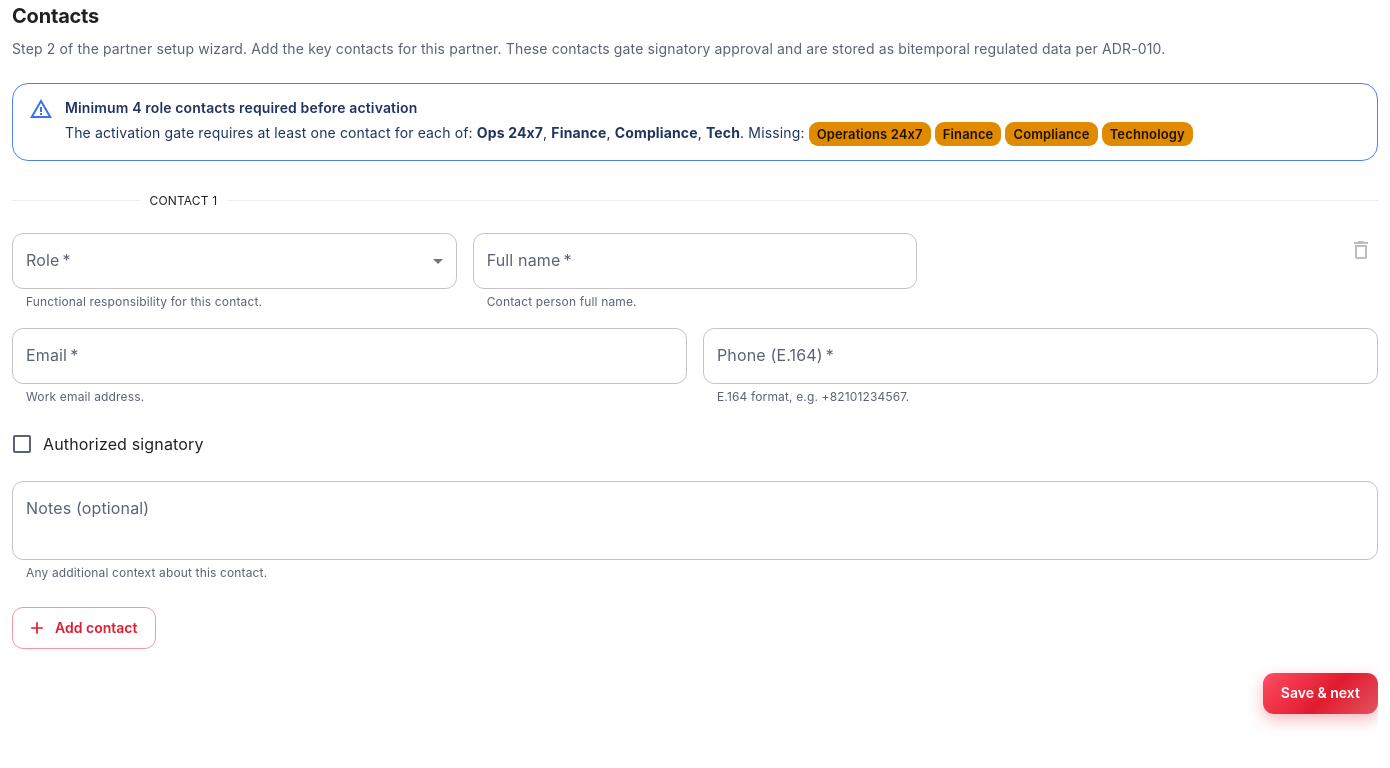
Scenario: ContactsForm › flags required fields when the form is submitted empty
Click the button "Save & next".
click(1320, 693)  # box [1263,673,1378,714]
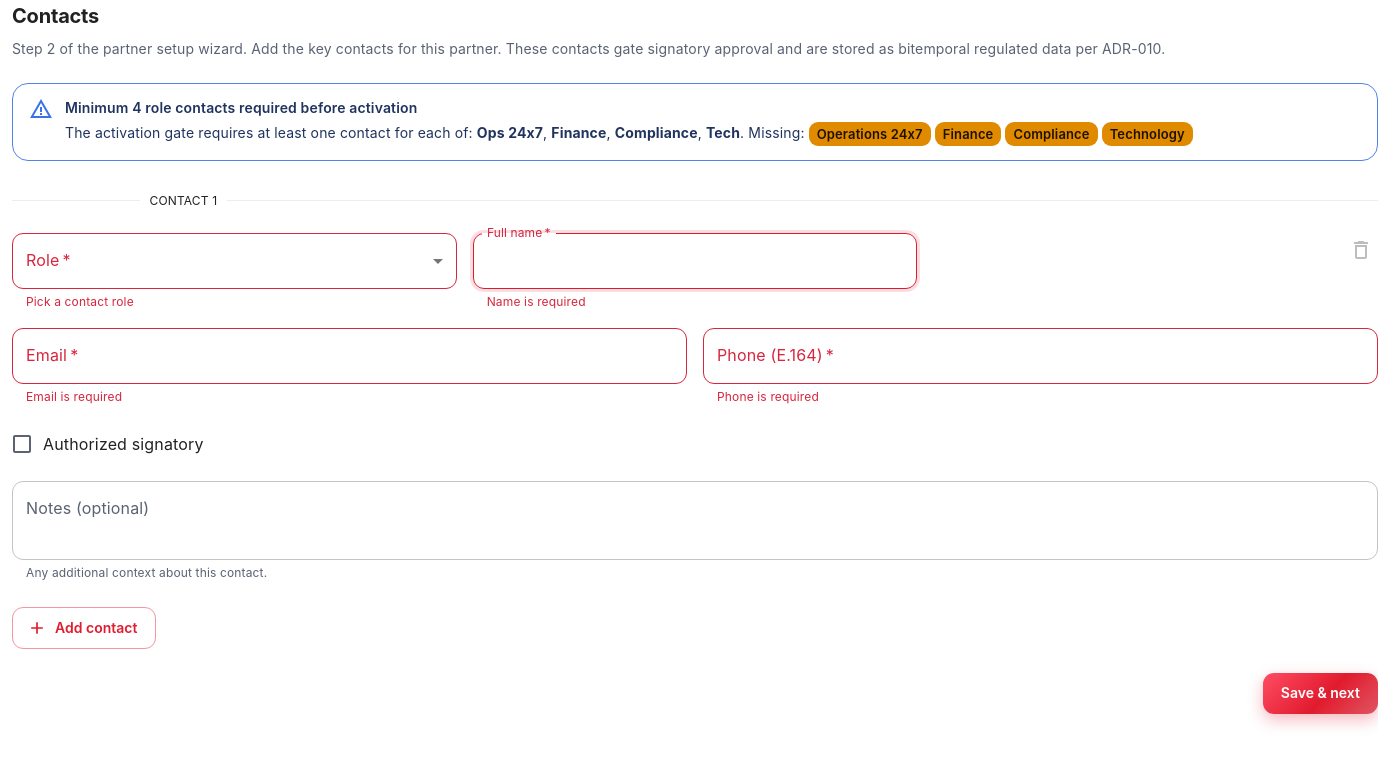
Expected: the text "Pick a contact role" is shown, [26,294,134,309]
Expected: the text "Name is required" is shown, [487,294,586,309]
